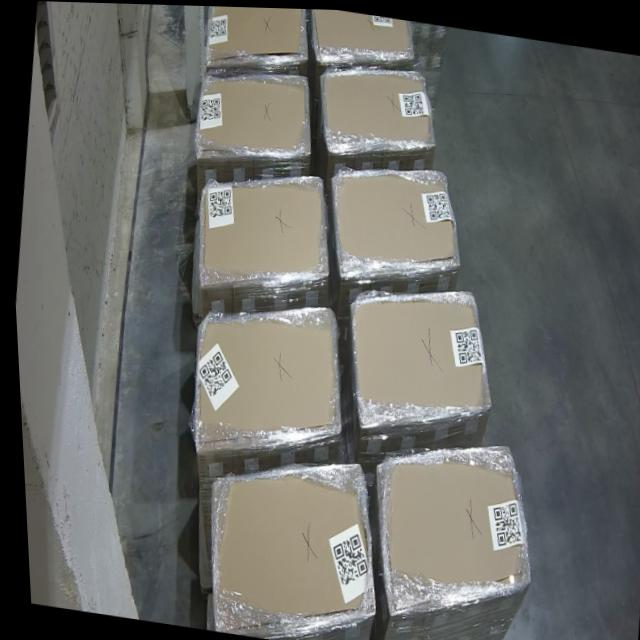pallet: (207, 460, 368, 630), (371, 439, 523, 607), (348, 288, 486, 425), (191, 308, 331, 440), (334, 170, 457, 273), (197, 76, 306, 155), (324, 68, 430, 146), (203, 5, 303, 66), (310, 7, 411, 58)
